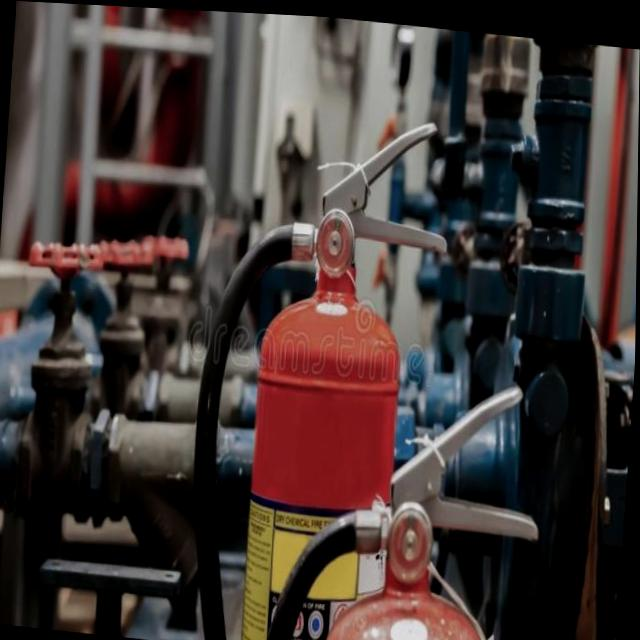FireExtinguisher: (180, 91, 458, 640), (260, 353, 553, 640)
